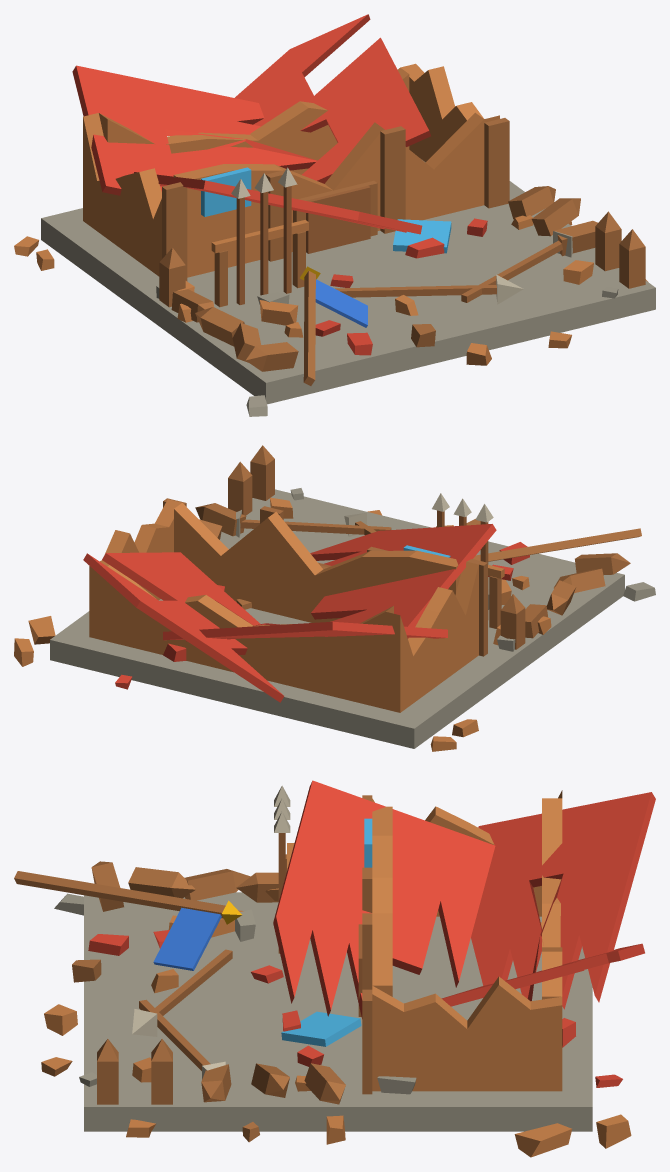
Rendered from barracks_t2_v1_dmg2.glb.
3 views of the same model, one above another, from view 1: azimuth 30°, elevation 25°; view 2: azimuth 150°, elevation 25°; view 3: azimuth 270°, elevation 25° (orthographic). The views are drawn at different scales.
Parts seen in each view (by area): view 1: barracks_t2_v1_dmg2; view 2: barracks_t2_v1_dmg2; view 3: barracks_t2_v1_dmg2.
Boxes of the visible parts, x1,y1,x2,y2 form: barracks_t2_v1_dmg2: (14,14,655,416); barracks_t2_v1_dmg2: (14,445,655,751); barracks_t2_v1_dmg2: (14,780,655,1157).
Size of the model in its own units: 0.9107 by 0.27 by 0.9468.
1 material, 1 textured.
